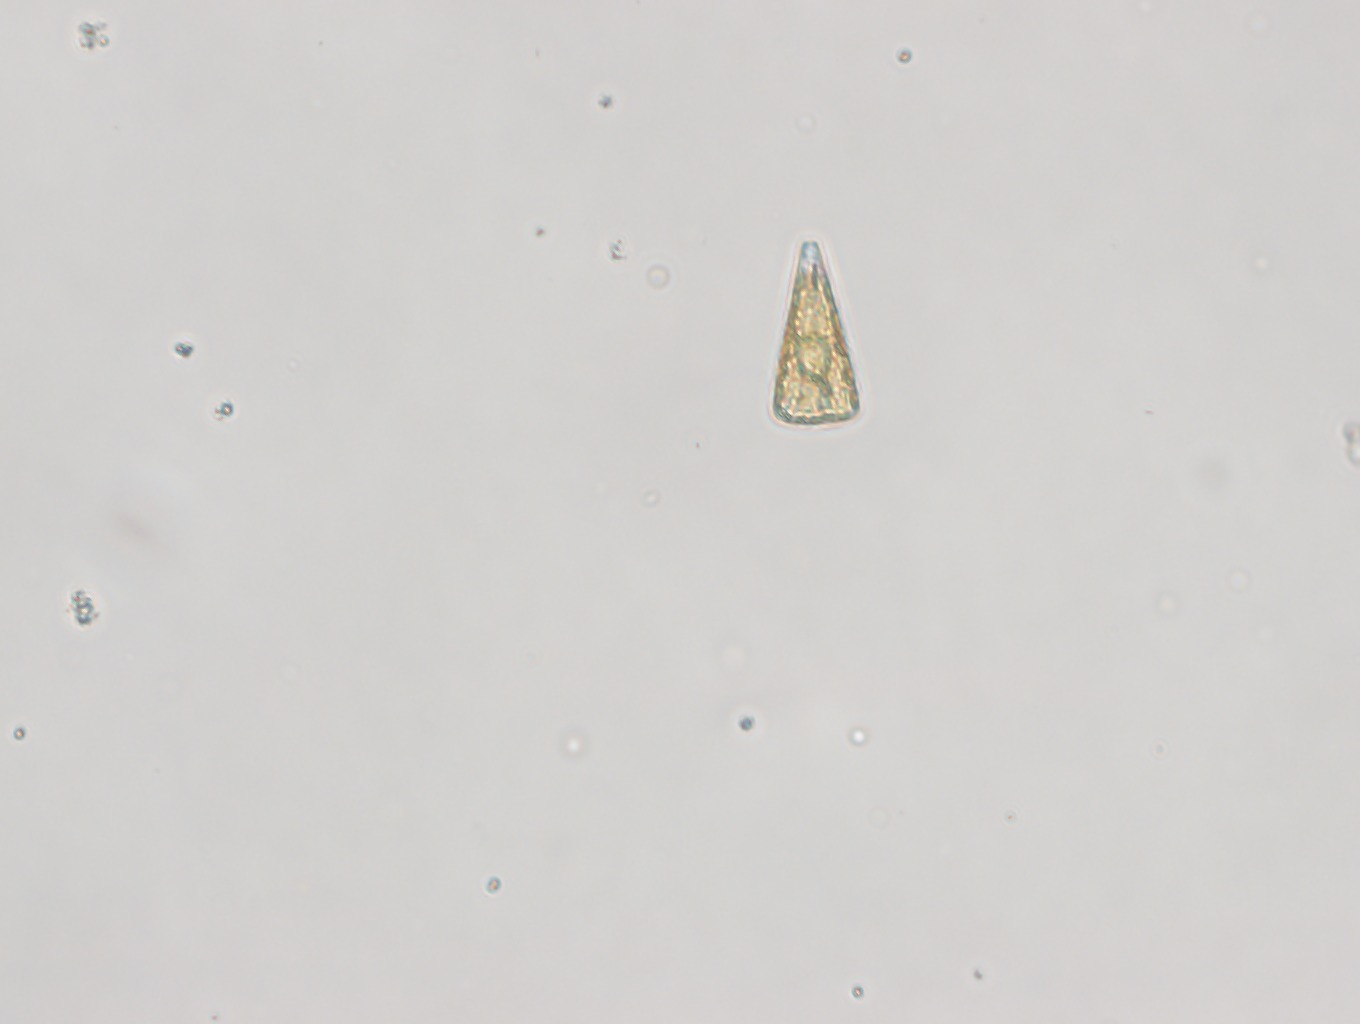helicotheca: (762, 240, 879, 432)
